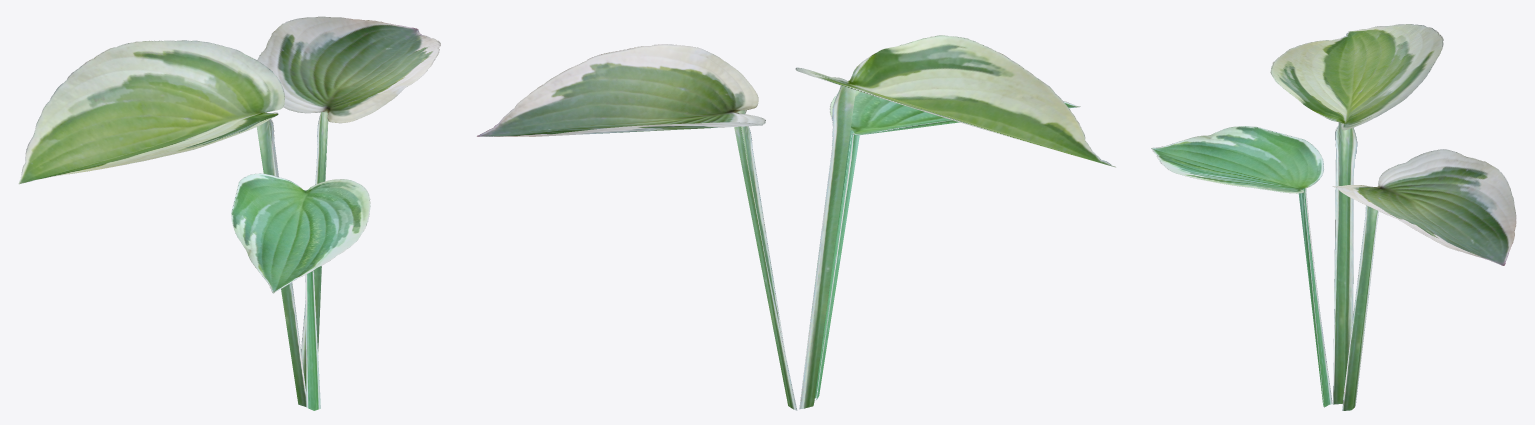
File: plant_small_wg_00D.fbx
The picture shows the model from 3 angles, left to right: view 1: azimuth 30°, elevation 25°; view 2: azimuth 150°, elevation 25°; view 3: azimuth 270°, elevation 25°; orthographic projection. The views are drawn at different scales.
Parts seen in each view (by area): view 1: plant_small_wg_00D; view 2: plant_small_wg_00D; view 3: plant_small_wg_00D.
Boxes of the visible parts, left/top/right/bottom form: plant_small_wg_00D: left=18, top=16, right=440, bottom=410; plant_small_wg_00D: left=477, top=35, right=1115, bottom=410; plant_small_wg_00D: left=1151, top=24, right=1516, bottom=410.
Size of the model in its own units: 26.78 by 18.3 by 19.71.
Materials: 1 (1 with a texture image).
